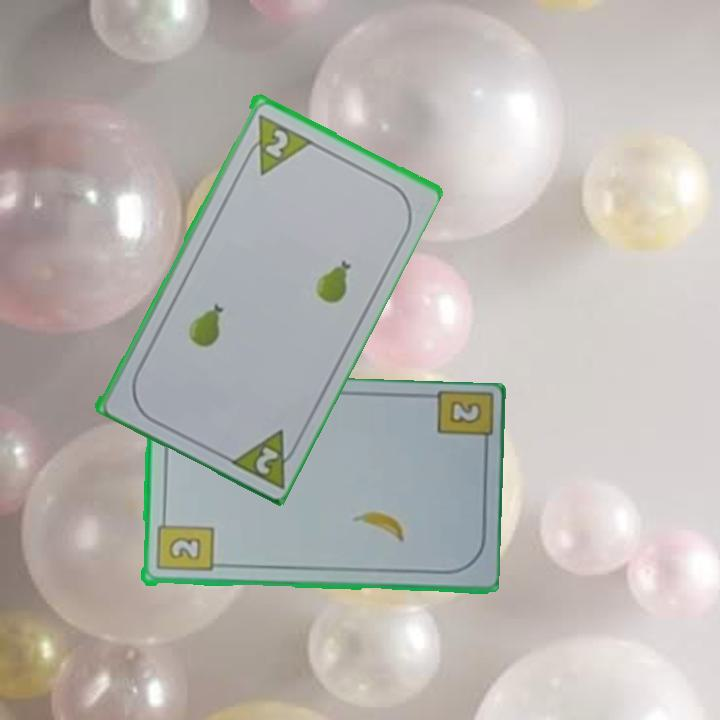2b: (153, 512, 215, 575), (445, 397, 484, 427)
2p: (223, 424, 304, 491), (260, 125, 292, 161)
